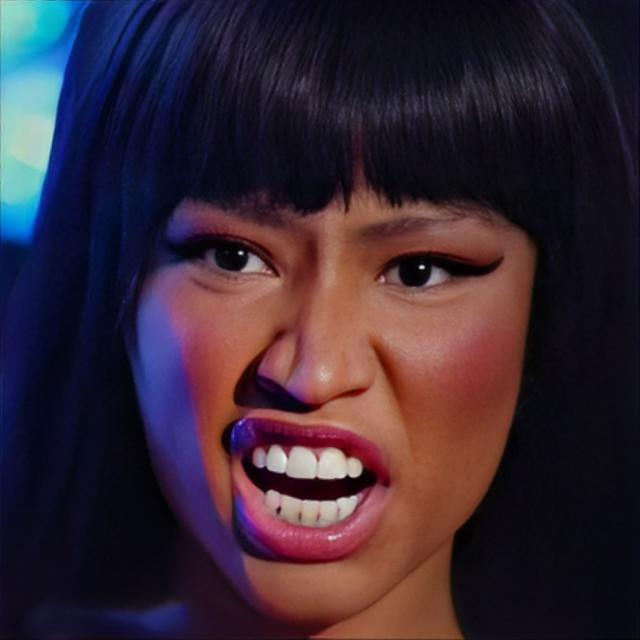anger: (125, 40, 535, 609)
